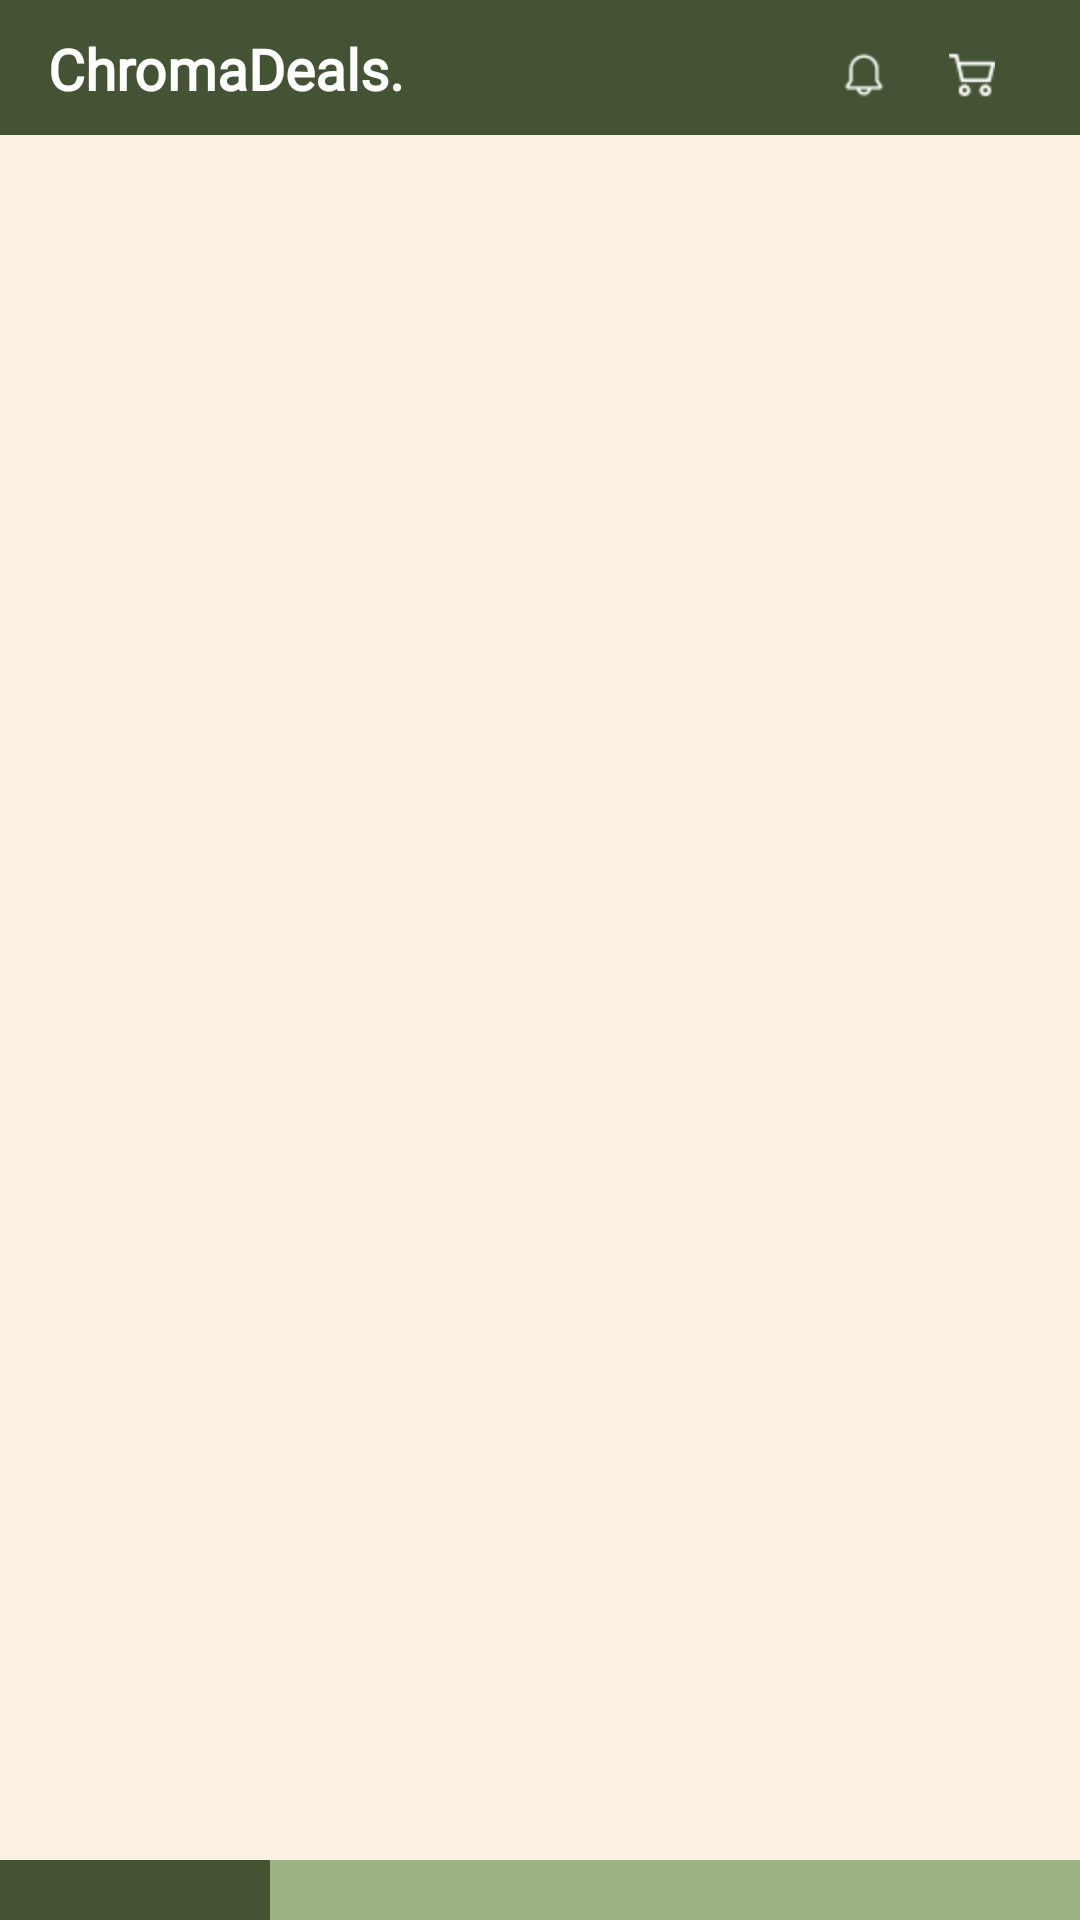

Screen size 1080 × 1920. Icon name, then its center in pixels as point (x, y):
keranjang: point (972, 75)
lonceng: point (864, 74)
